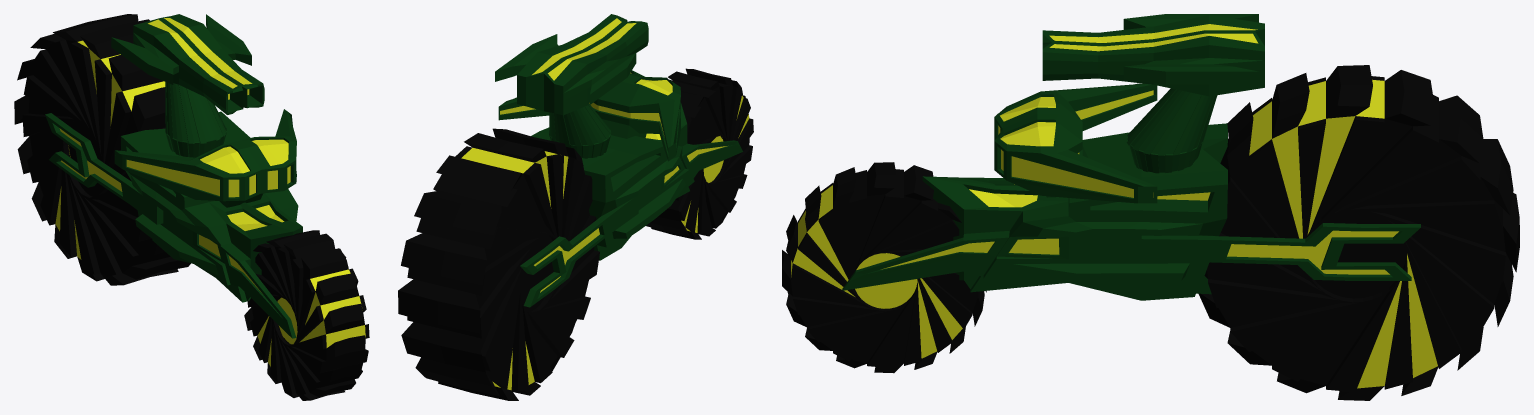
The model's file is Motocycle plasma.fbx.
3 renders of one model, left to right at view 1: azimuth 30°, elevation 25°; view 2: azimuth 150°, elevation 25°; view 3: azimuth 270°, elevation 25°, orthographic. The views are drawn at different scales.
Parts seen in each view (by area): view 1: Wheel2, Cube, Wheel1, Cylinder, Cube.001; view 2: Wheel2, Cube, Cylinder, Wheel1, Cube.001; view 3: Wheel2, Cube, Wheel1, Cylinder, Cube.001.
Boxes of the visible parts, bbox=[...] form: Wheel2: bbox=[14, 14, 190, 285]; Cube: bbox=[45, 111, 302, 338]; Wheel1: bbox=[244, 230, 369, 400]; Cylinder: bbox=[111, 14, 264, 157]; Cube.001: bbox=[114, 109, 296, 207]; Wheel2: bbox=[398, 128, 599, 400]; Cube: bbox=[520, 102, 742, 307]; Cylinder: bbox=[495, 14, 648, 158]; Wheel1: bbox=[646, 68, 753, 239]; Cube.001: bbox=[498, 70, 680, 161]; Wheel2: bbox=[1198, 65, 1519, 400]; Cube: bbox=[842, 123, 1420, 300]; Wheel1: bbox=[782, 162, 986, 373]; Cylinder: bbox=[1042, 14, 1264, 173]; Cube.001: bbox=[994, 83, 1157, 203].
Size of the model in its own units: 195 by 309 by 588.
